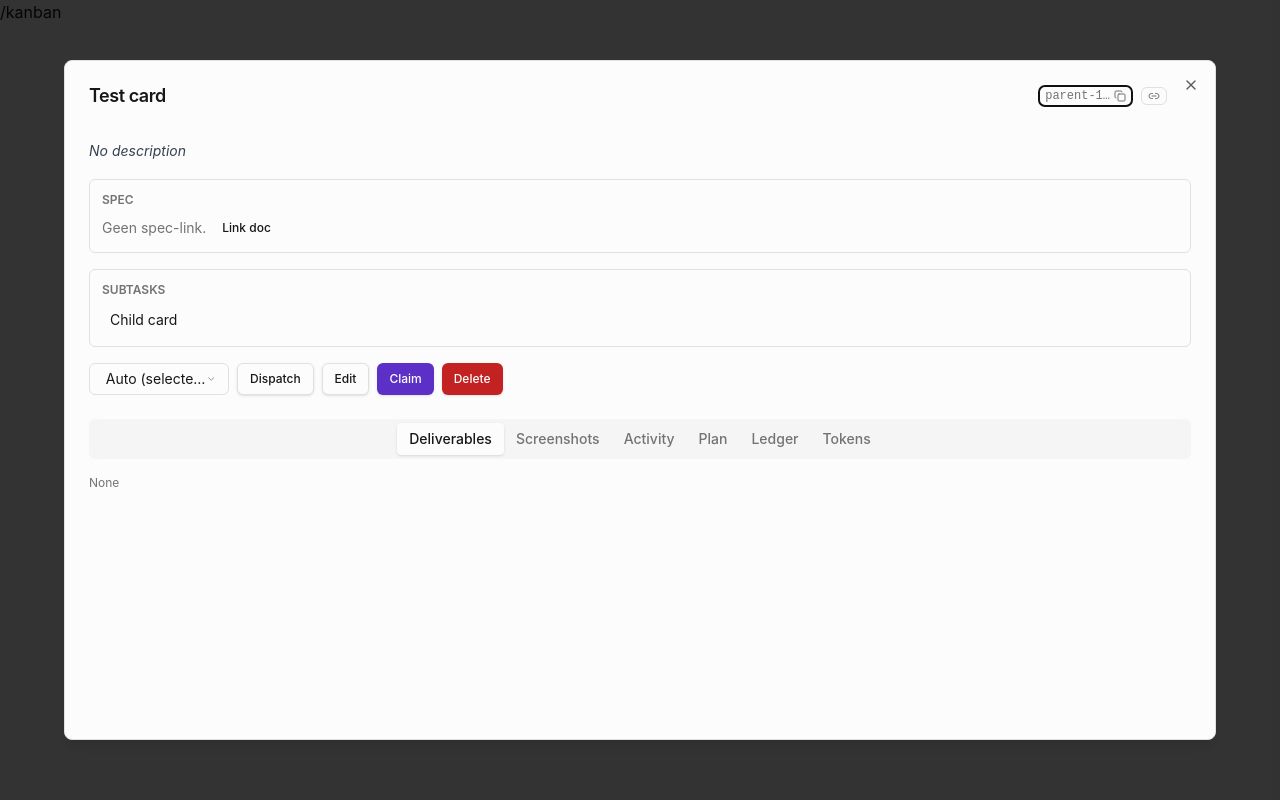
Test: CardDrawer Subtasks section › navigates to the clicked child card via the ?card= deep-link
The width and height of the screenshot is (1280, 800).
Step 1. Click the button with test id "subtask-row" → point(144, 320), box [102,306,1178,334]
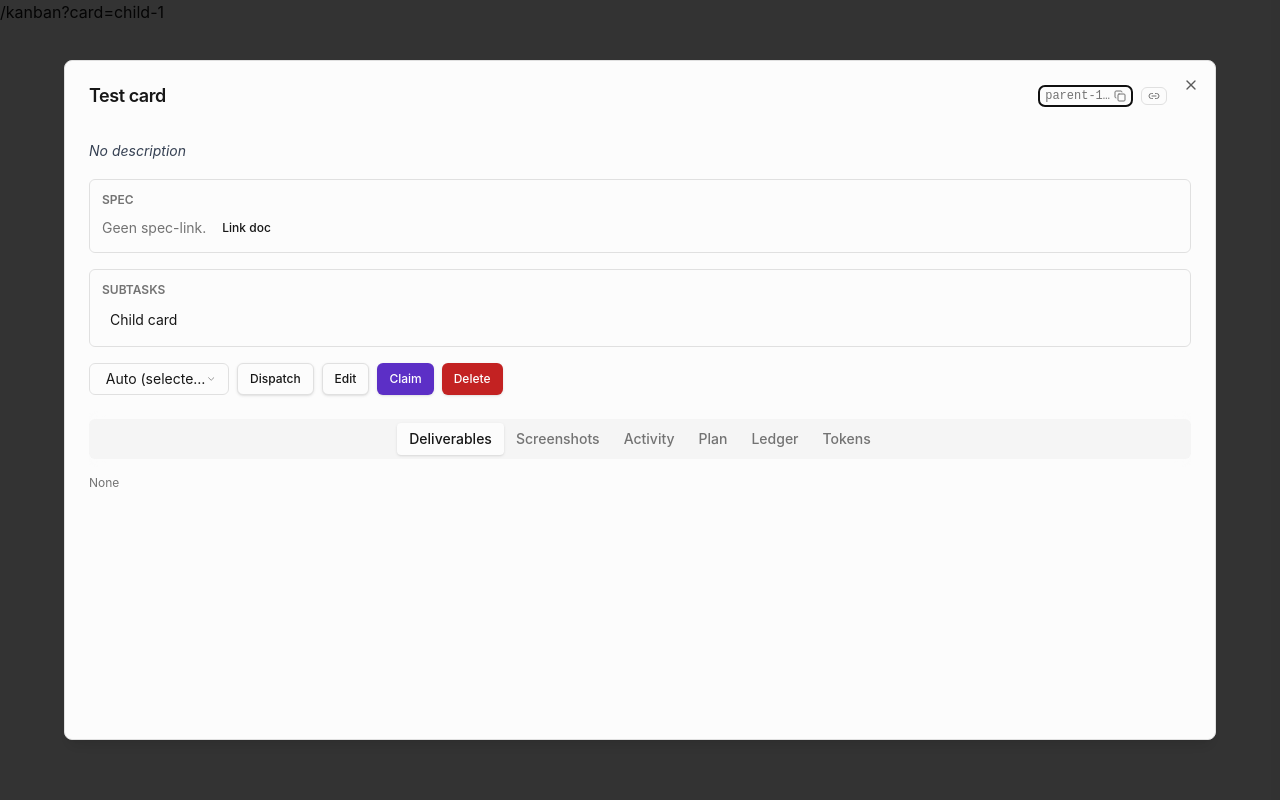
Check: the text with test id "location" reads "/kanban?card=child-1", box [0,2,164,22]
